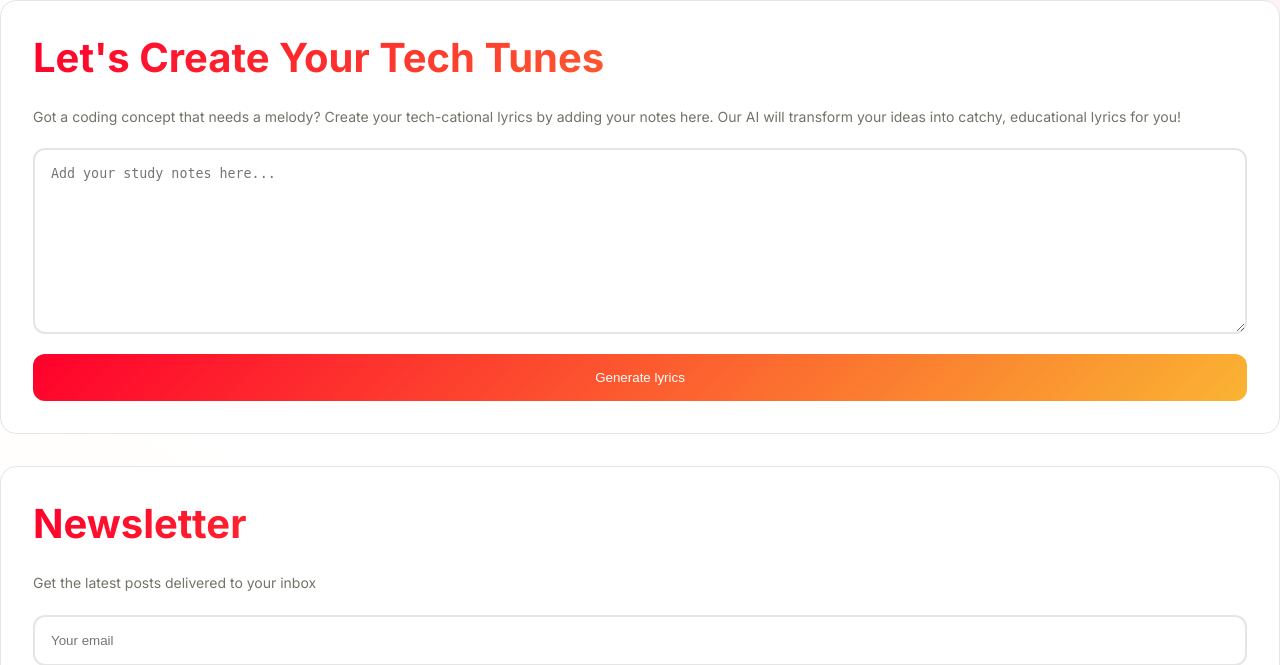
Test: Sidebar Component › handles streaming response correctly
The image size is (1280, 665).
Type "React streaming test" into the text box with placeholder "Add your study notes here...".
click(640, 241); type("React streaming test")  # box x1=33 y1=148 x2=1247 y2=334
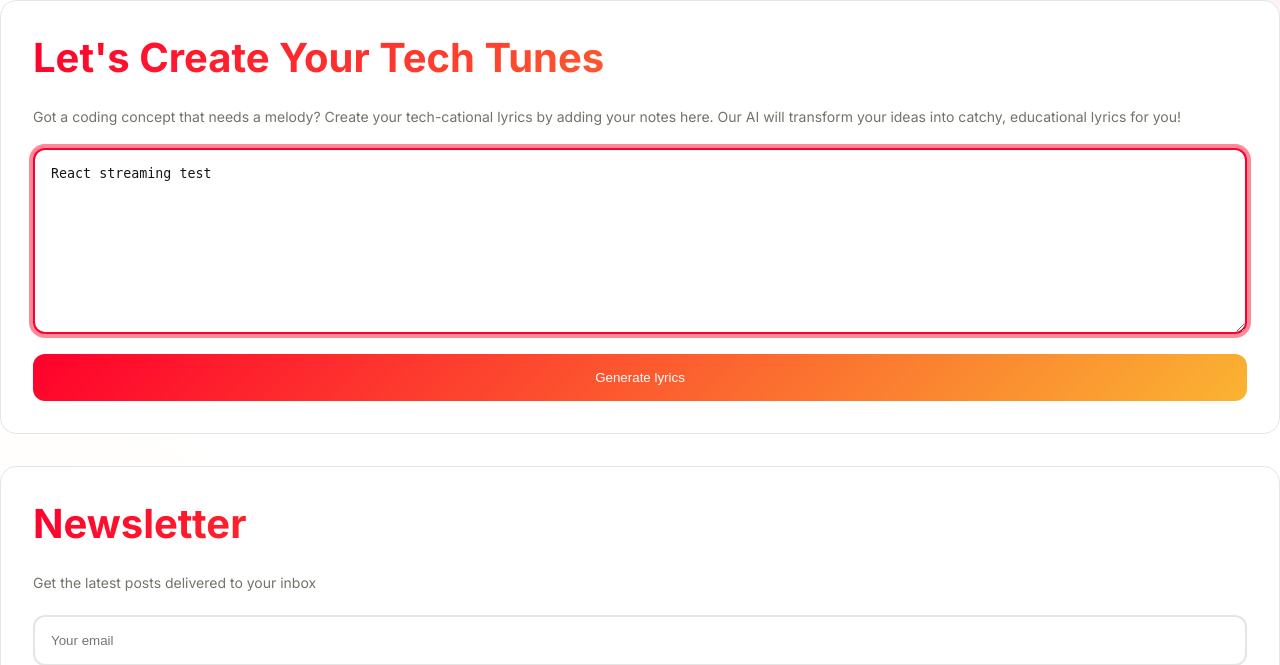
Click the button "Generate lyrics".
click(640, 378)  # box x1=33 y1=354 x2=1247 y2=401
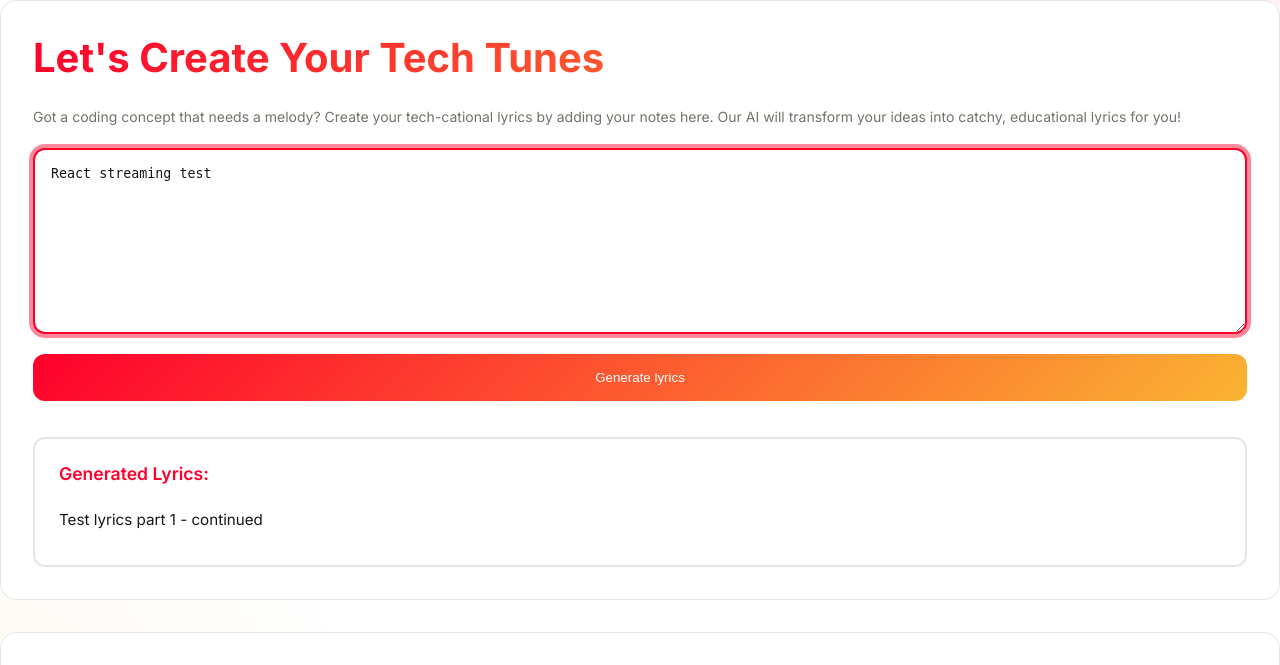
expect the heading "Generated Lyrics:" is shown: met, box x1=59 y1=463 x2=209 y2=484
expect the text "Test lyrics part 1 - continued" is shown: met, box x1=59 y1=510 x2=263 y2=529
